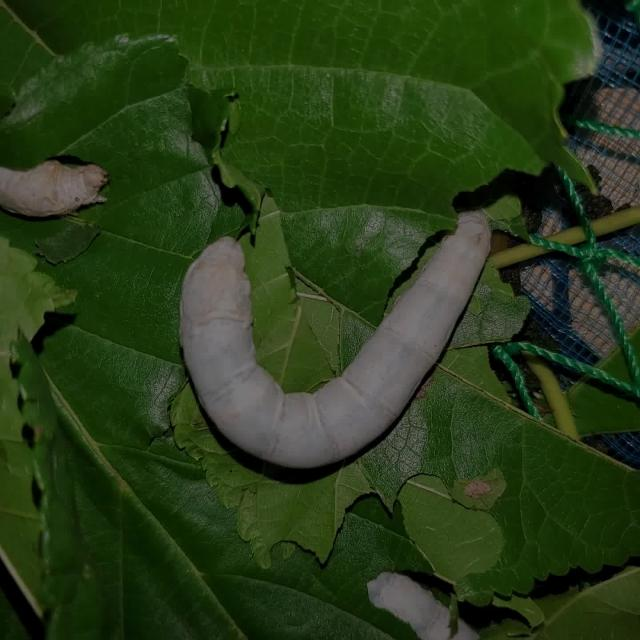Healthy: (179, 199, 502, 479)
